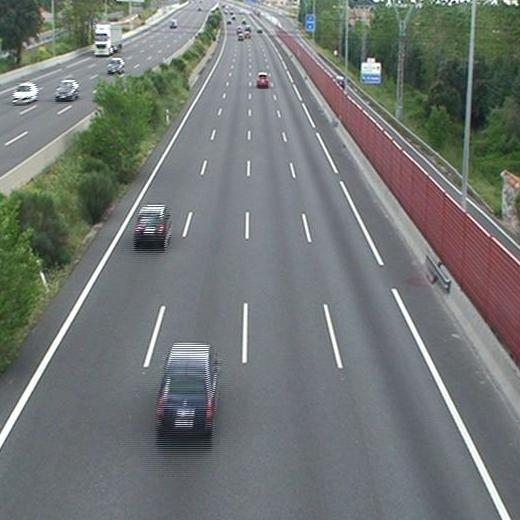car: (157, 345, 216, 427), (135, 208, 170, 242), (257, 74, 269, 87)
